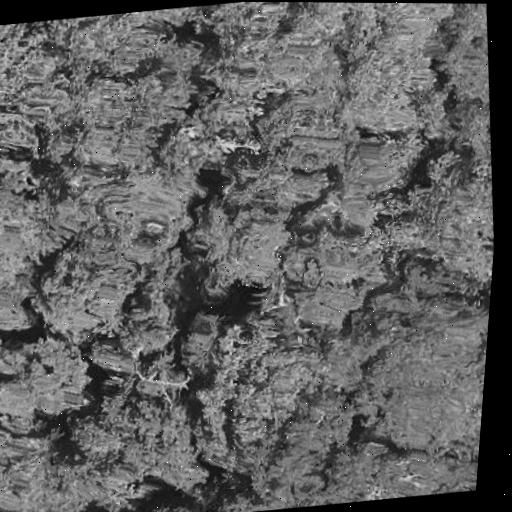tree-top: (206, 327, 367, 488), (349, 301, 490, 454), (185, 306, 334, 450), (48, 148, 205, 270), (319, 2, 454, 139), (58, 53, 201, 161), (394, 147, 501, 288), (265, 220, 394, 333), (199, 2, 338, 105), (178, 191, 298, 299), (51, 5, 206, 87), (29, 243, 147, 341), (94, 388, 207, 489), (0, 332, 107, 430), (0, 164, 72, 302), (0, 404, 92, 512), (211, 144, 340, 221), (325, 124, 428, 218), (0, 34, 74, 163), (424, 3, 497, 111), (271, 382, 361, 469), (311, 432, 405, 506), (170, 308, 232, 378), (432, 93, 496, 160), (0, 282, 42, 376), (106, 2, 233, 33), (196, 488, 279, 512), (127, 492, 209, 512), (59, 504, 137, 512)
